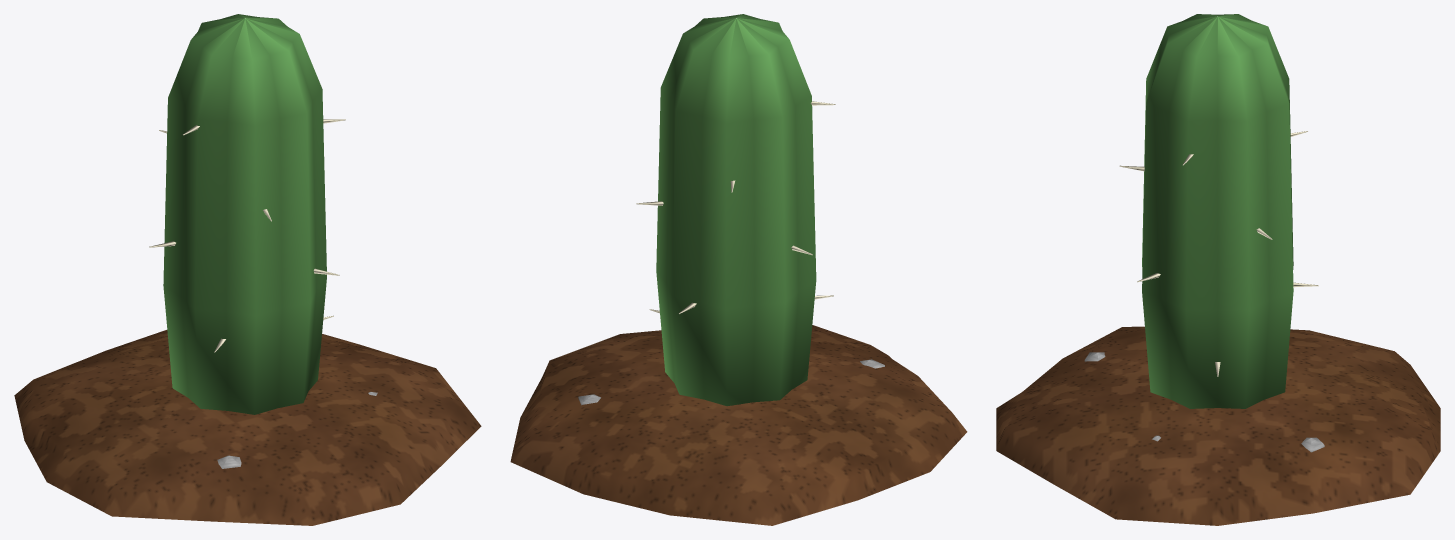
Rendered from plant-dragon-1.glb.
3 renders of one model, left to right at view 1: azimuth 30°, elevation 25°; view 2: azimuth 150°, elevation 25°; view 3: azimuth 270°, elevation 25°, orthographic. The views are drawn at different scales.
Parts seen in each view (by area): view 1: plant-dragon-1; view 2: plant-dragon-1; view 3: plant-dragon-1.
Part boxes in pixels (<box>): plant-dragon-1: <box>14,14,481,525</box>; plant-dragon-1: <box>510,14,967,525</box>; plant-dragon-1: <box>996,14,1440,525</box>.
Bounding box in the file's own units: 0.84 × 0.84 × 0.8189.
Materials: 4 (2 with a texture image).
